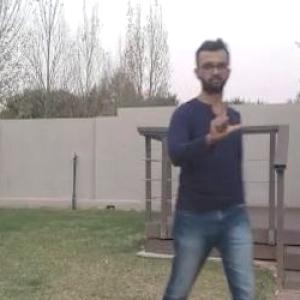land_hand: (203, 95, 247, 143)
